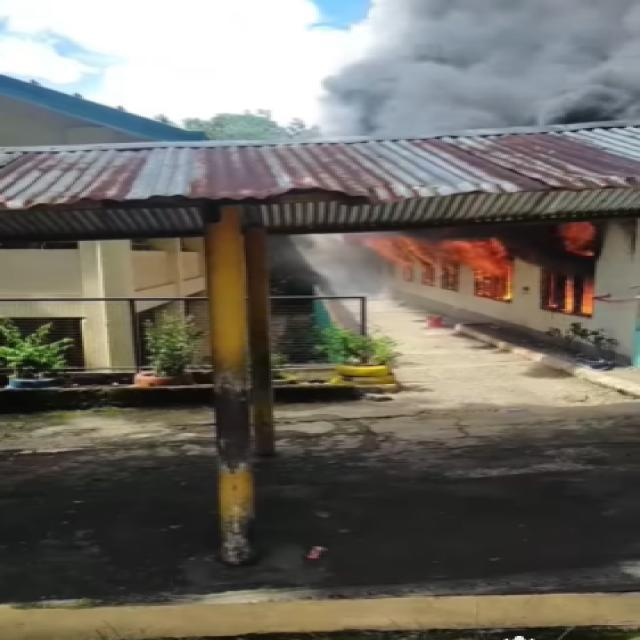Fire: (351, 216, 604, 312)
Smoke: (319, 0, 640, 141)
